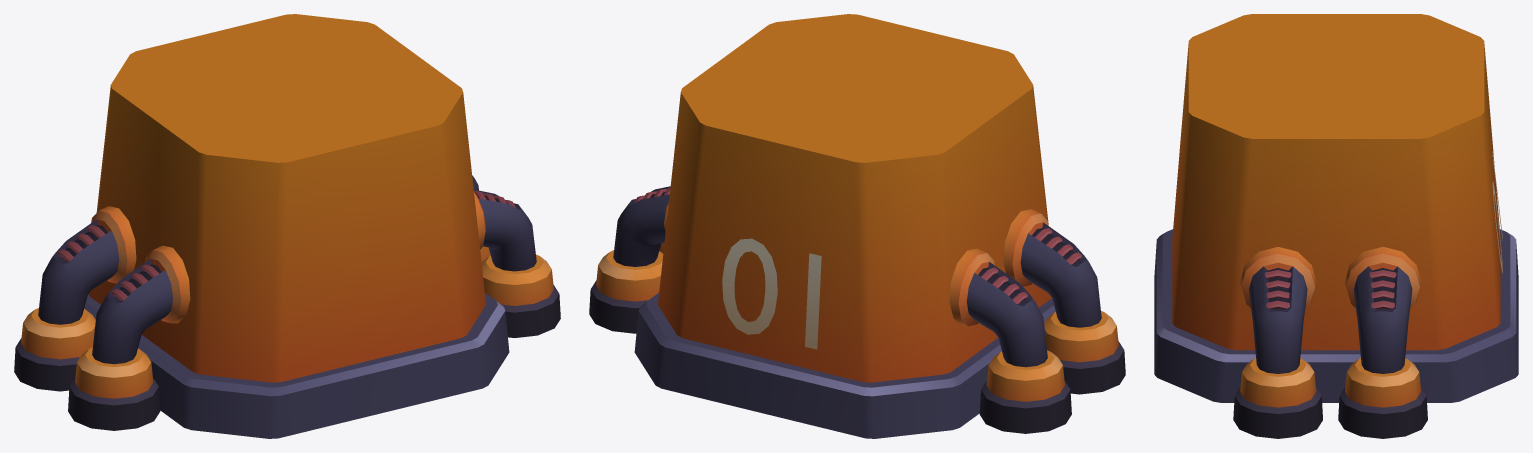
Rendered from SM_Platform_Tower_02.fbx.
3 renders of one model, left to right at view 1: azimuth 30°, elevation 25°; view 2: azimuth 150°, elevation 25°; view 3: azimuth 270°, elevation 25°, orthographic. The views are drawn at different scales.
Parts seen in each view (by area): view 1: SM_Platform_Tower_02; view 2: SM_Platform_Tower_02; view 3: SM_Platform_Tower_02.
Boxes of the visible parts, bbox=[...] form: SM_Platform_Tower_02: bbox=[14, 14, 560, 438]; SM_Platform_Tower_02: bbox=[589, 14, 1125, 438]; SM_Platform_Tower_02: bbox=[1154, 14, 1518, 438].
Bounding box in the file's own units: 12.74 × 6.57 × 8.68.
